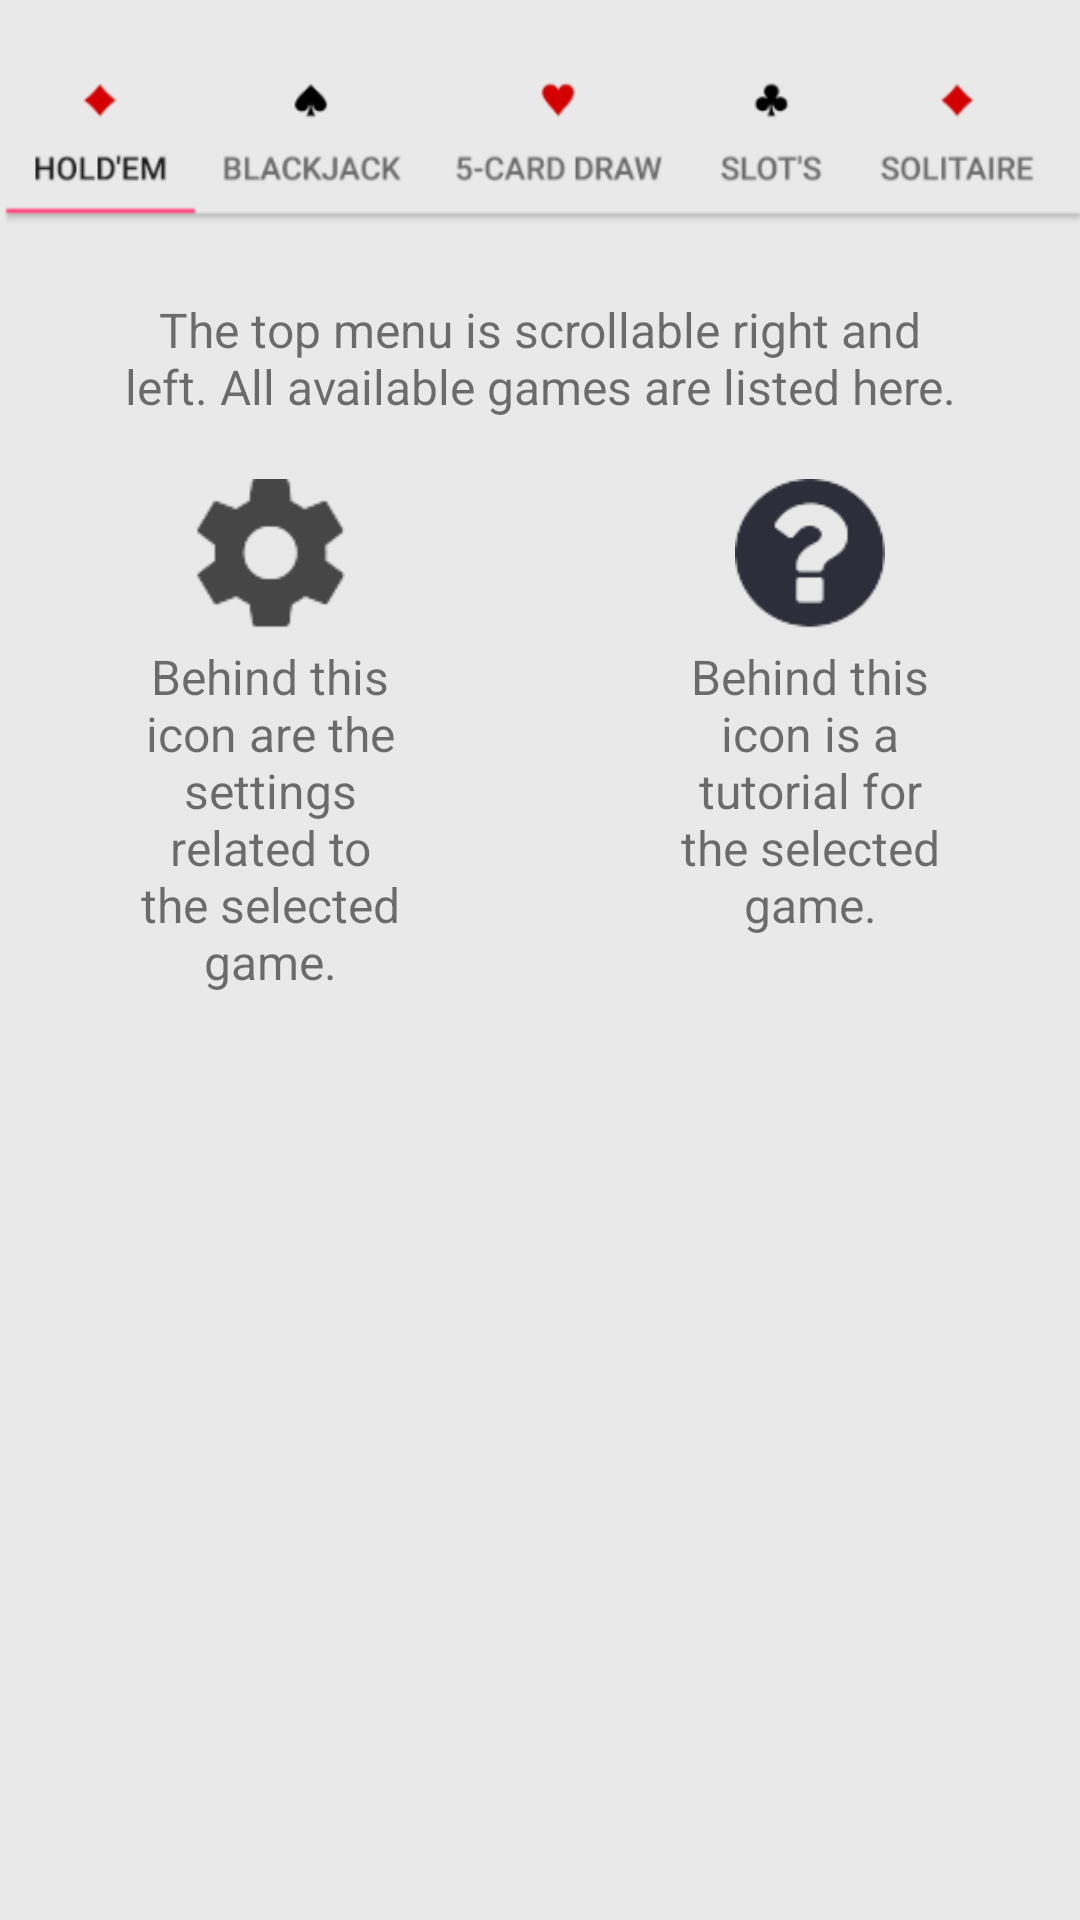

Named icons in this screenshot (1080px x 1920px) and their bounding boxes, (x1, y1, x2, y2):
info: (735, 479, 885, 628)
